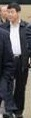boots: (3, 112, 14, 118), (0, 112, 6, 118)
hard-hat: (23, 0, 31, 8)
